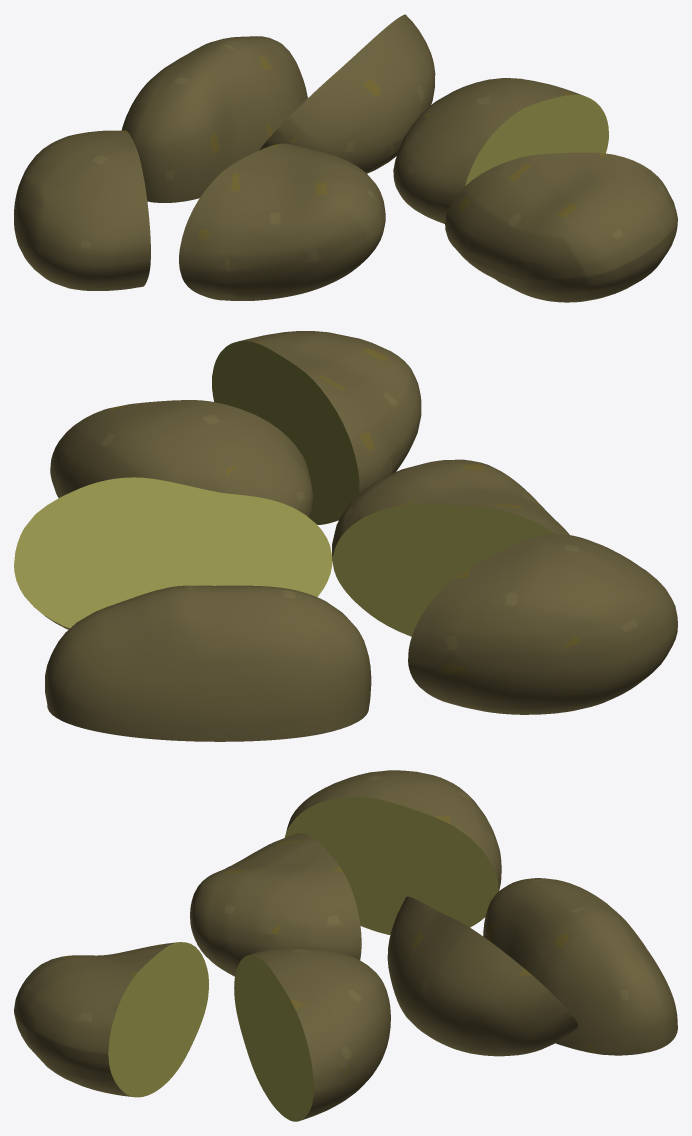
Rendered from Half Potatoes.fbx.
3 views of the same model, one above another, from view 1: azimuth 30°, elevation 25°; view 2: azimuth 150°, elevation 25°; view 3: azimuth 270°, elevation 25° (orthographic). The views are drawn at different scales.
Parts seen in each view (by area): view 1: Half_Potatoes; view 2: Half_Potatoes; view 3: Half_Potatoes.
Part boxes in pixels (left/top/right/bottom): Half_Potatoes: left=14, top=14, right=677, bottom=302; Half_Potatoes: left=14, top=331, right=677, bottom=741; Half_Potatoes: left=14, top=770, right=677, bottom=1121.
Bounding box in the file's own units: 57.22 × 15.18 × 58.2.
